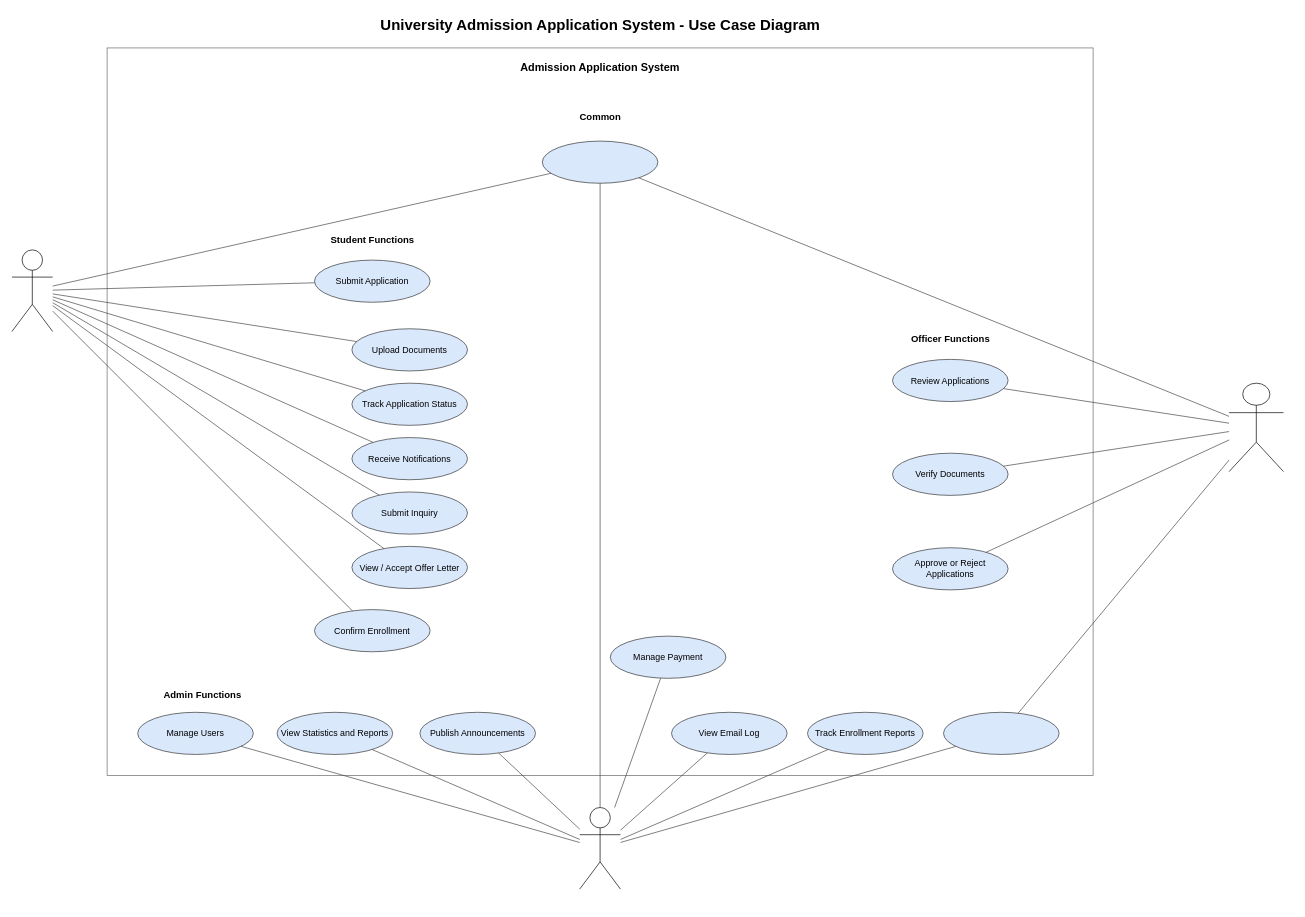
This 1305x917 diagram has some shape labels left out. The shapes that lost their labels are listed below. From the top down, each one's centre as x and y in pixels, then its label:
At point (600, 161): "Register and Login".
At point (32, 290): "Student".
At point (1256, 427): "Admission Officer".
At point (1001, 733): "Reply Inquiry".
At point (599, 848): "Admin".
